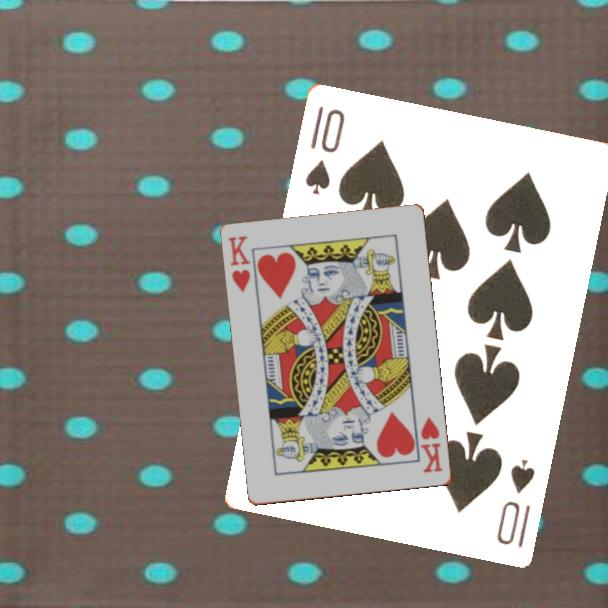h13: (417, 413, 446, 476), (225, 232, 253, 295)
s10: (301, 102, 347, 198), (493, 455, 538, 551)
